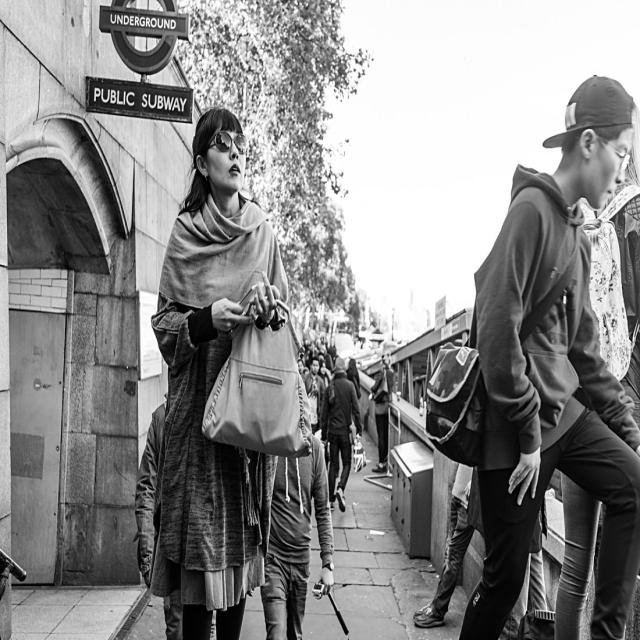body: (422, 66, 640, 639), (149, 100, 314, 639), (550, 87, 639, 639), (246, 432, 335, 640), (132, 387, 186, 640), (412, 462, 479, 630), (320, 356, 364, 515), (367, 349, 395, 476), (294, 330, 338, 389), (303, 355, 326, 435), (345, 358, 362, 400)
